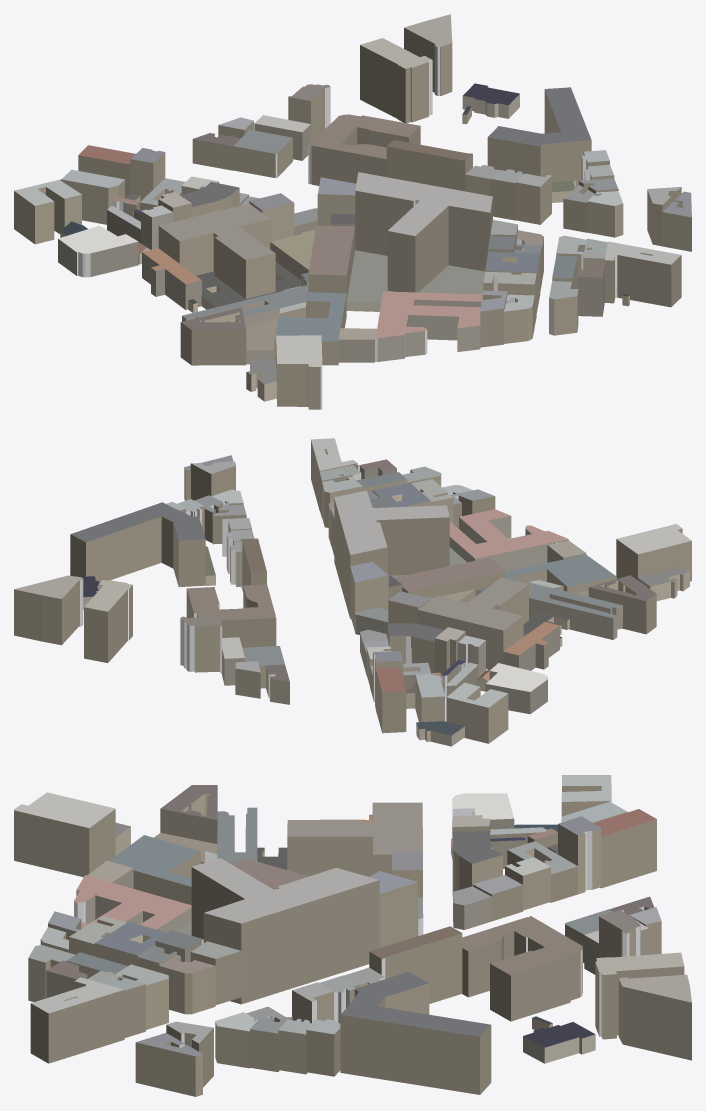
3 views of the same model, one above another, from view 1: azimuth 30°, elevation 25°; view 2: azimuth 150°, elevation 25°; view 3: azimuth 270°, elevation 25° (orthographic). The views are drawn at different scales.
Visible parts, largest first — view 1: tuile; view 2: tuile; view 3: tuile.
Part boxes in pixels (bbox=[...]): tuile: bbox=[14, 14, 691, 409]; tuile: bbox=[14, 438, 691, 746]; tuile: bbox=[14, 775, 691, 1096].
Bounding box in the file's own units: 272 × 42.77 × 270.
